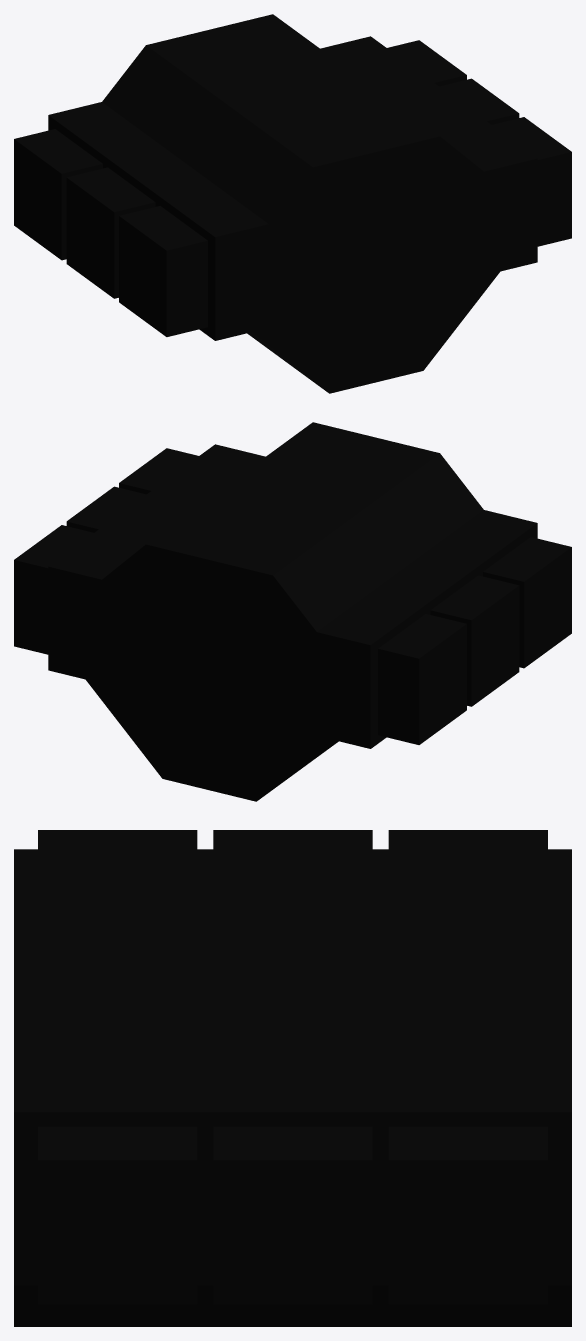
File: v6insolvoboxer.obj
3 views of the same model, one above another, from view 1: azimuth 30°, elevation 25°; view 2: azimuth 150°, elevation 25°; view 3: azimuth 270°, elevation 25° (orthographic). The views are drawn at different scales.
Visible parts, largest first — view 1: cube; view 2: cube; view 3: cube.
Part boxes in pixels (box(x1,y1,x2,y2)): cube: box(14, 14, 571, 393); cube: box(14, 422, 571, 801); cube: box(14, 830, 571, 1326).
Bounding box in the file's own units: 0.766 × 0.4161 × 0.5469.
